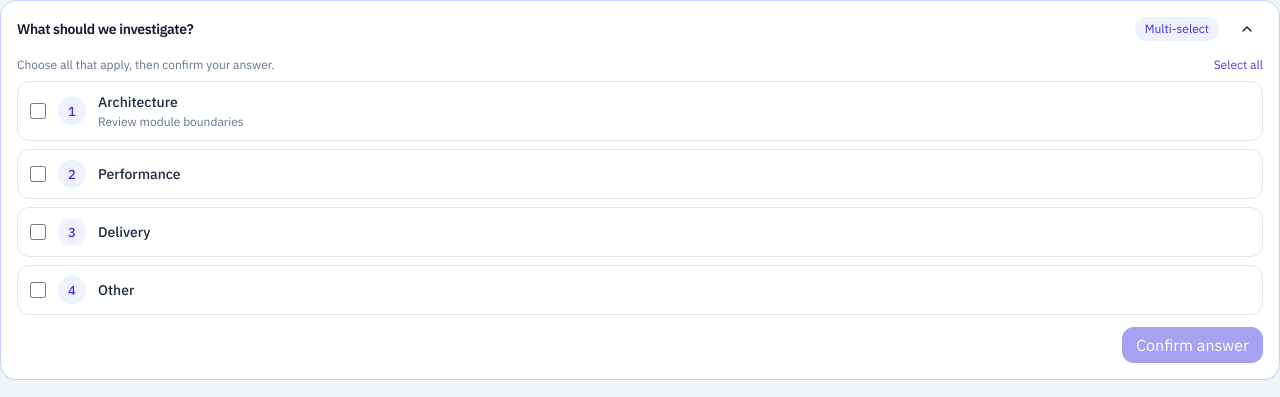
Test: displays the mode badge and toggles Select all and Clear all in multiple mode
Expected: the text "Multi-select" is shown, [1135,17,1219,41]
Click the button "Select all": coordinates (1238, 65) [1214,57,1263,73]
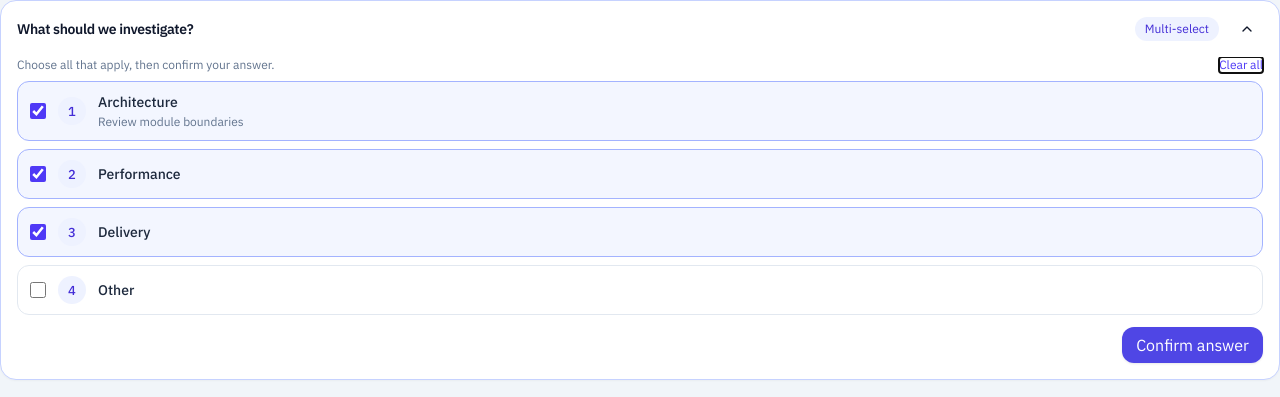
Result: the checkbox labelled "1 Architecture Review module boundaries" is checked at [30,103,46,119]
Result: the checkbox labelled "2 Performance" is checked at [30,166,46,182]
Result: the checkbox labelled "3 Delivery" is checked at [30,224,46,240]
Click the button "Clear all": coordinates (1241, 65) [1219,57,1263,73]
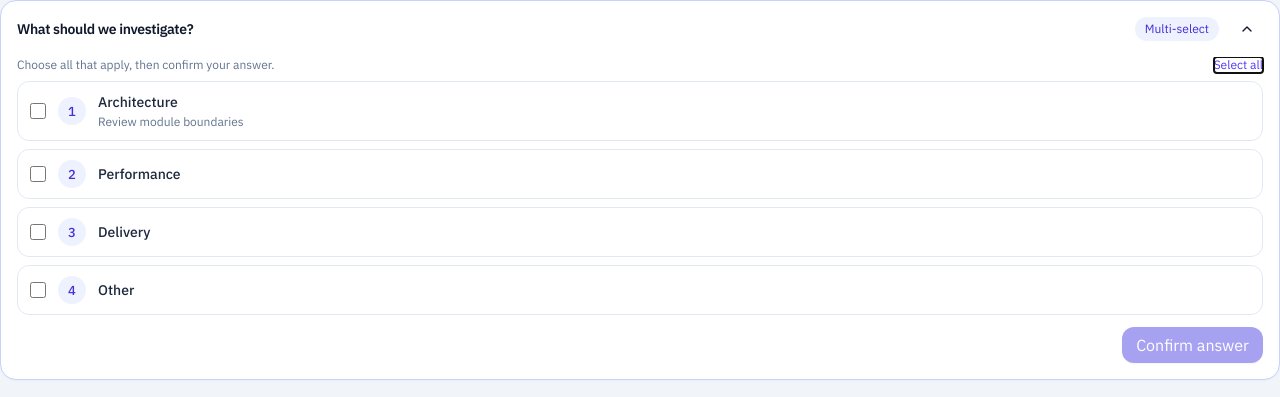
Result: the checkbox labelled "1 Architecture Review module boundaries" is not checked at [30,103,46,119]
Result: the checkbox labelled "2 Performance" is not checked at [30,166,46,182]
Result: the checkbox labelled "3 Delivery" is not checked at [30,224,46,240]
